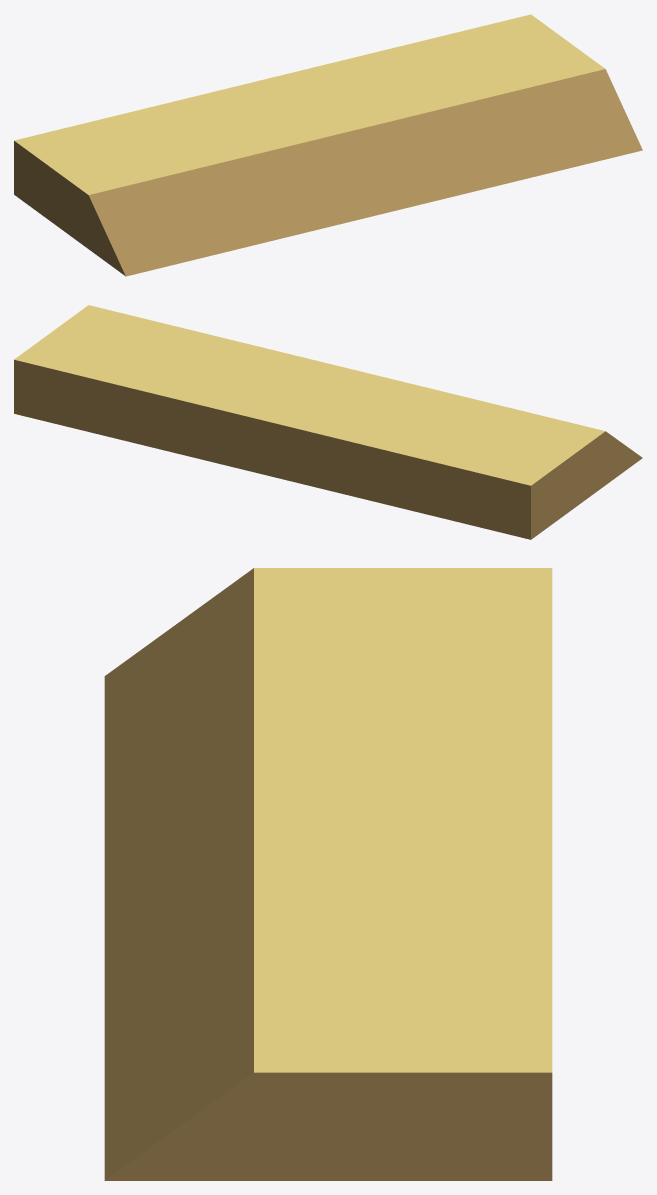
Rendered from Terrain_Modular_Tiles_Sand_Dirt_Cliff_Edge_Straight_Inner_01.fbx.
3 views of the same model, one above another, from view 1: azimuth 30°, elevation 25°; view 2: azimuth 150°, elevation 25°; view 3: azimuth 270°, elevation 25° (orthographic). The views are drawn at different scales.
Parts seen in each view (by area): view 1: Terrain_Modular_Tiles_Sand_Dirt_Cliff_Edge_Straight_Inner_01; view 2: Terrain_Modular_Tiles_Sand_Dirt_Cliff_Edge_Straight_Inner_01; view 3: Terrain_Modular_Tiles_Sand_Dirt_Cliff_Edge_Straight_Inner_01.
Boxes of the visible parts, x1=… form: Terrain_Modular_Tiles_Sand_Dirt_Cliff_Edge_Straight_Inner_01: x1=14, y1=14, x2=642, y2=276; Terrain_Modular_Tiles_Sand_Dirt_Cliff_Edge_Straight_Inner_01: x1=14, y1=305, x2=642, y2=539; Terrain_Modular_Tiles_Sand_Dirt_Cliff_Edge_Straight_Inner_01: x1=104, y1=568, x2=552, y2=1180.
Bounding box in the file's own units: 3000 × 300 × 1125.
